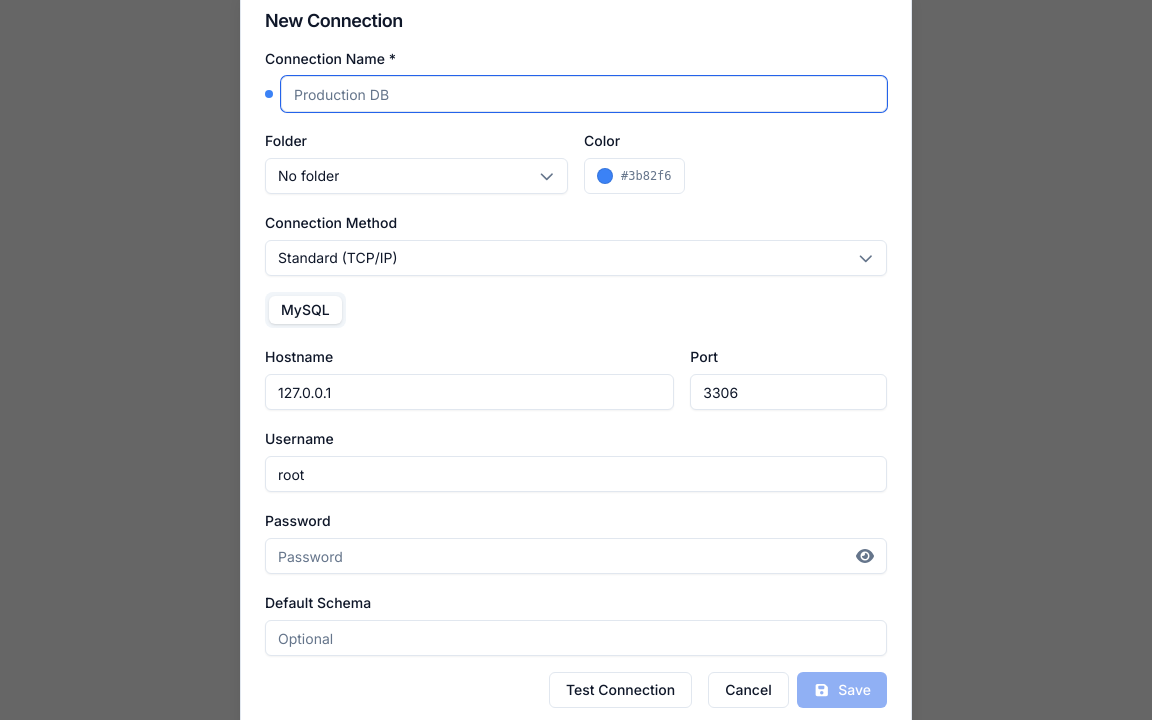
Test case: ConnectionFormModal › shows SSH tab when method is TCP/IP over SSH
# Radix Select: click the combobox trigger (not the inner span which has pointer-events:none)
Step 1. Click the dropdown "Standard (TCP/IP)" → click(338, 258), box [265, 240, 887, 276]
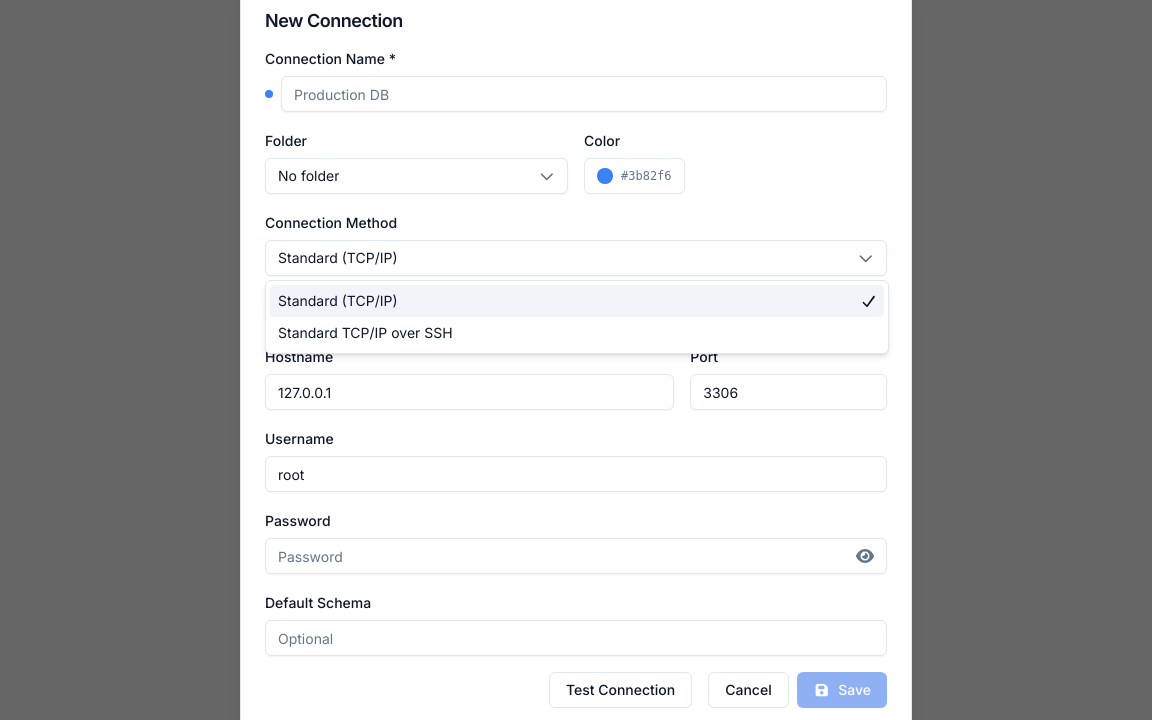
Step 2. Click the option "Standard TCP/IP over SSH" → click(365, 332), box [278, 324, 453, 341]
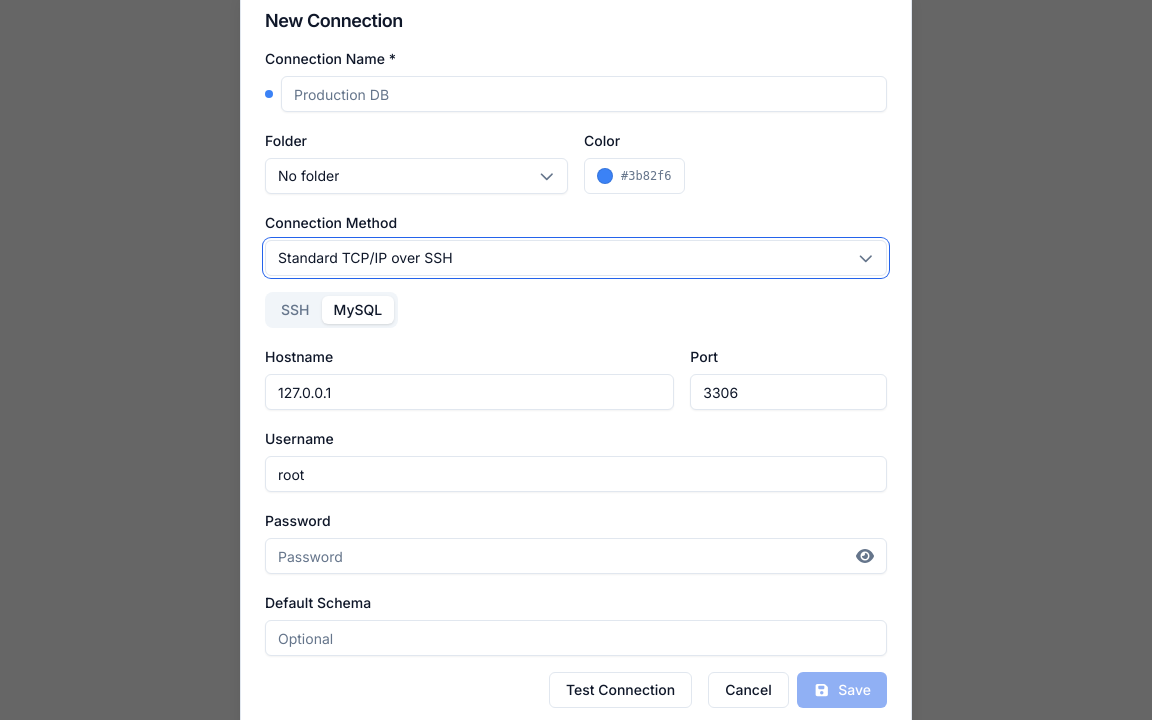
Expected: the tab "SSH" is shown, [269, 296, 322, 324]
